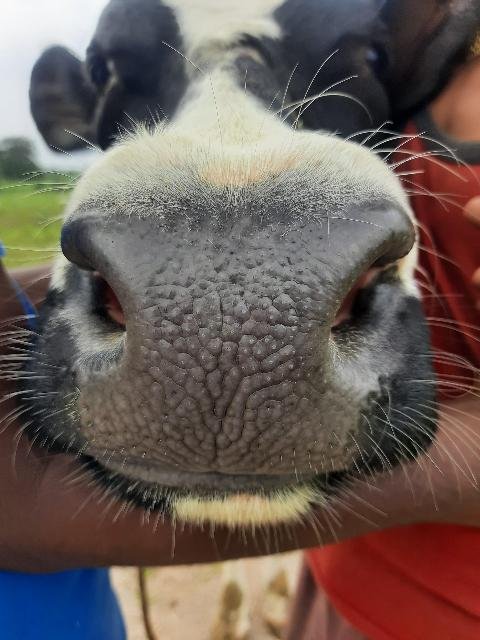Muzzle: (75, 218, 359, 470)
